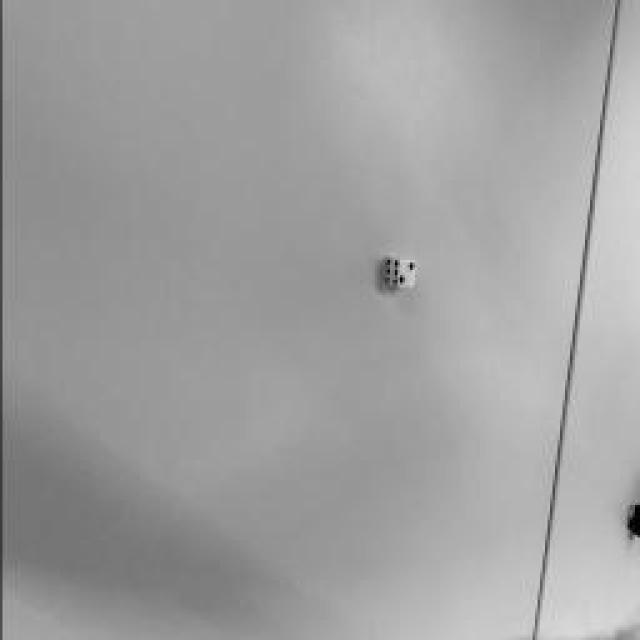dice_2: (396, 260, 414, 288)
